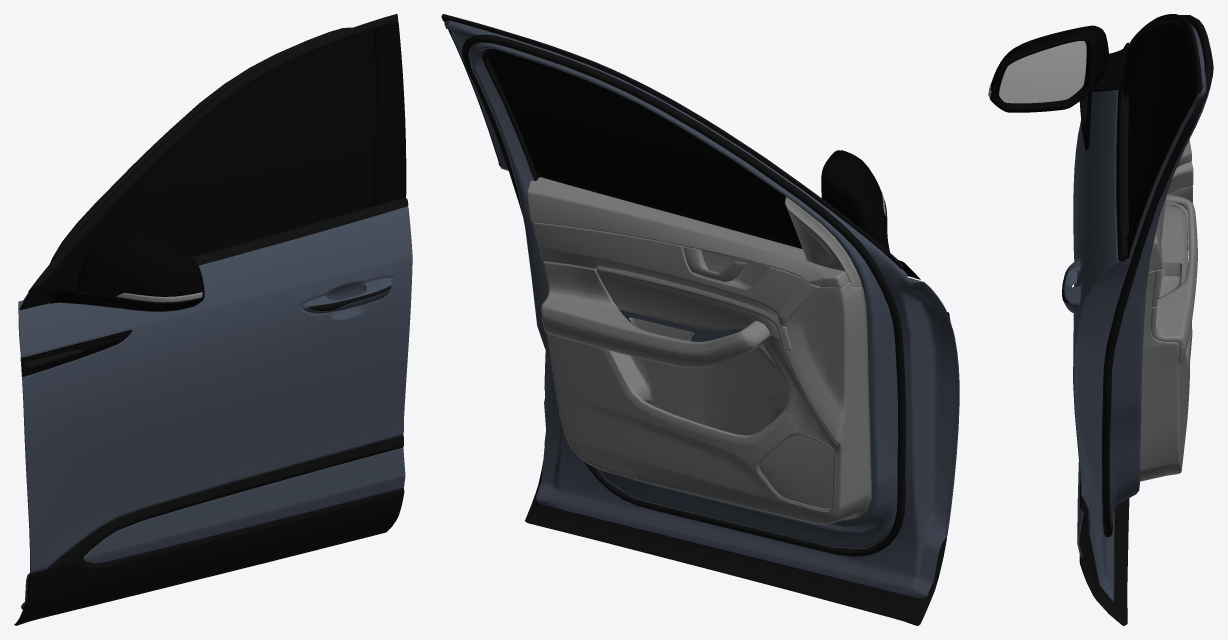
File: Door_front_L_control.fbx
3 renders of one model, left to right at view 1: azimuth 30°, elevation 25°; view 2: azimuth 150°, elevation 25°; view 3: azimuth 270°, elevation 25°, orthographic. The views are drawn at different scales.
Parts seen in each view (by area): view 1: CarPaint_door_front, Door_front_other, Door_front_L_WindowGlass_control, polySurface702; view 2: Door_Interior_front, CarPaint_door_front, Door_front_L_WindowGlass_control, Door_front_other, polySurface702; view 3: CarPaint_door_front, Door_front_other, Door_Interior_front, Door_front_L_WindowGlass_control, Door_front_L_RearviewMirror_glass_control, polySurface702.
Part boxes in pixels (x1,y1,x2,y2): CarPaint_door_front: (18, 206, 412, 609); Door_front_other: (14, 14, 408, 625); Door_front_L_WindowGlass_control: (112, 29, 375, 257); polySurface702: (74, 230, 204, 311); Door_Interior_front: (527, 177, 871, 524); CarPaint_door_front: (444, 20, 959, 598); Door_front_L_WindowGlass_control: (486, 50, 802, 248); Door_front_other: (441, 14, 951, 625); polySurface702: (821, 150, 887, 243); CarPaint_door_front: (1063, 25, 1211, 602); Door_front_other: (1062, 14, 1213, 625); Door_Interior_front: (1140, 140, 1197, 481); Door_front_L_WindowGlass_control: (1128, 23, 1194, 229); Door_front_L_RearviewMirror_glass_control: (999, 41, 1086, 103); polySurface702: (989, 25, 1115, 112).
Size of the model in its own units: 120 by 132 by 47.05.
